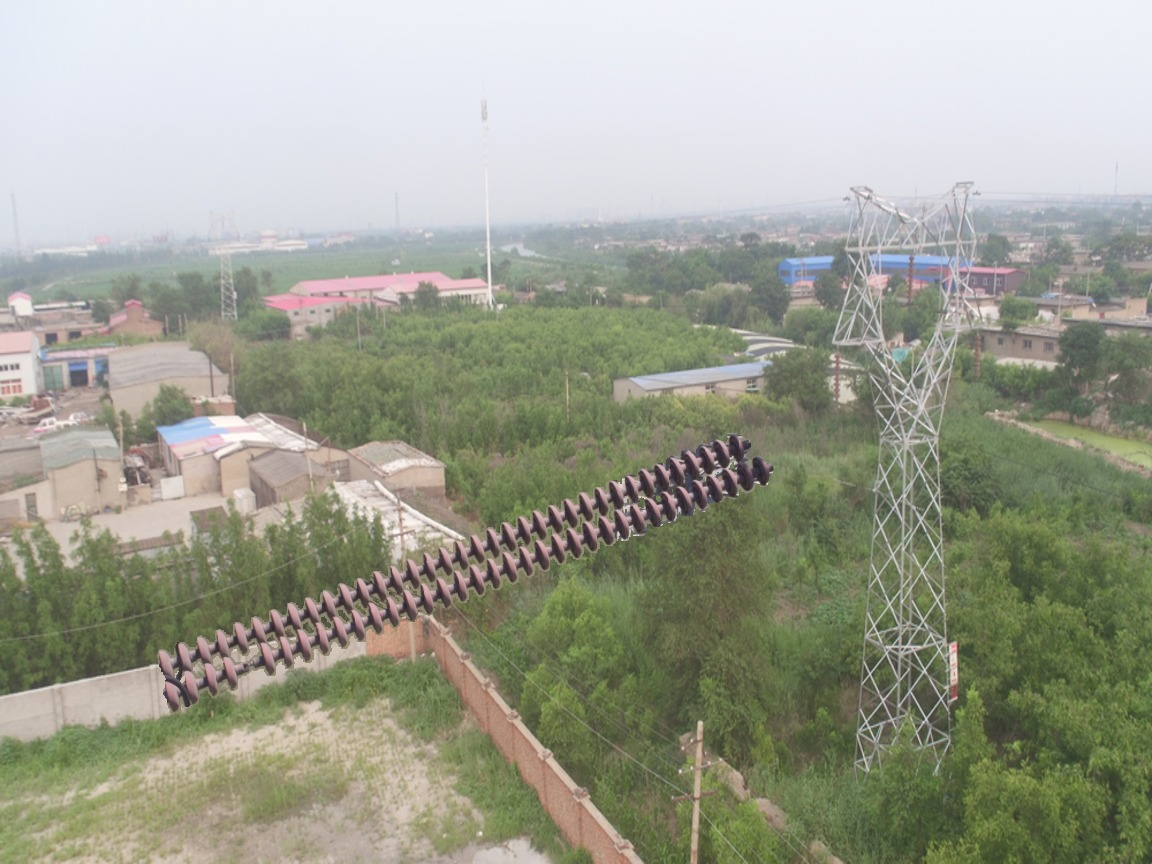defect: (214, 643, 278, 694)
